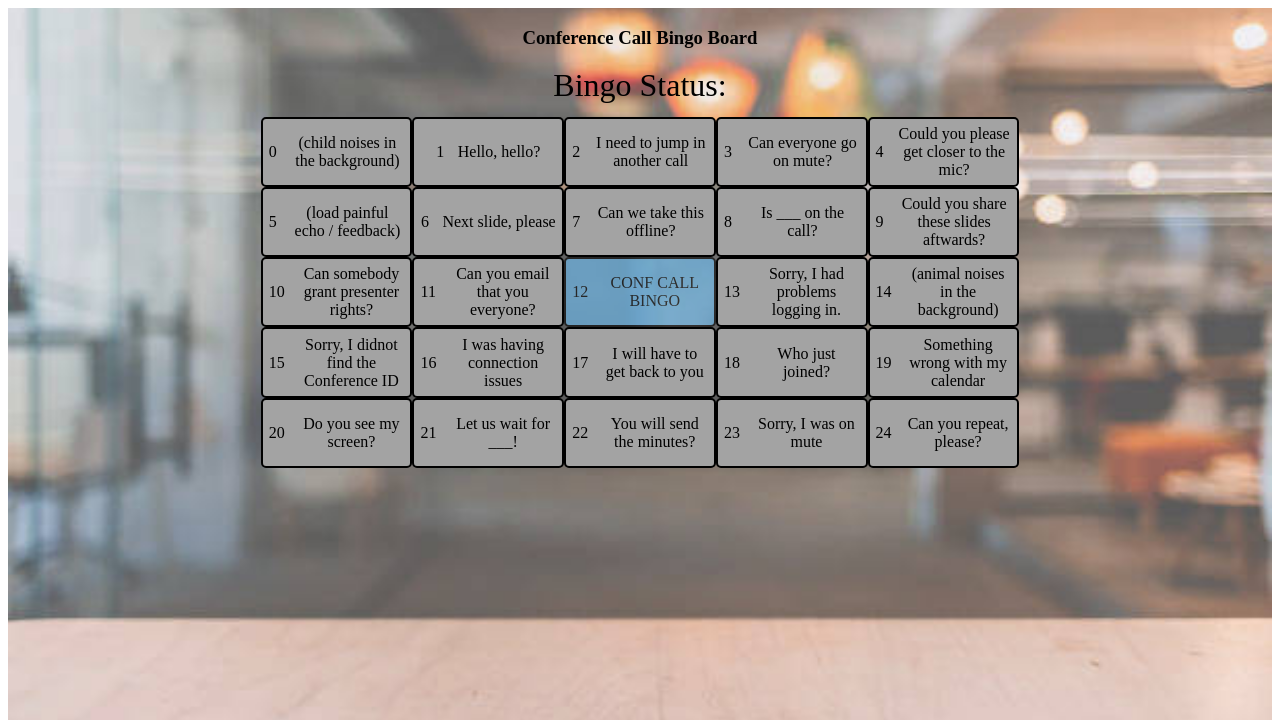
Test: Bingo Board › should have a bingo row and display B
The image size is (1280, 720).
Click the element showing "1 Hello, hello?" at (489, 152), box [413,117,565,187]
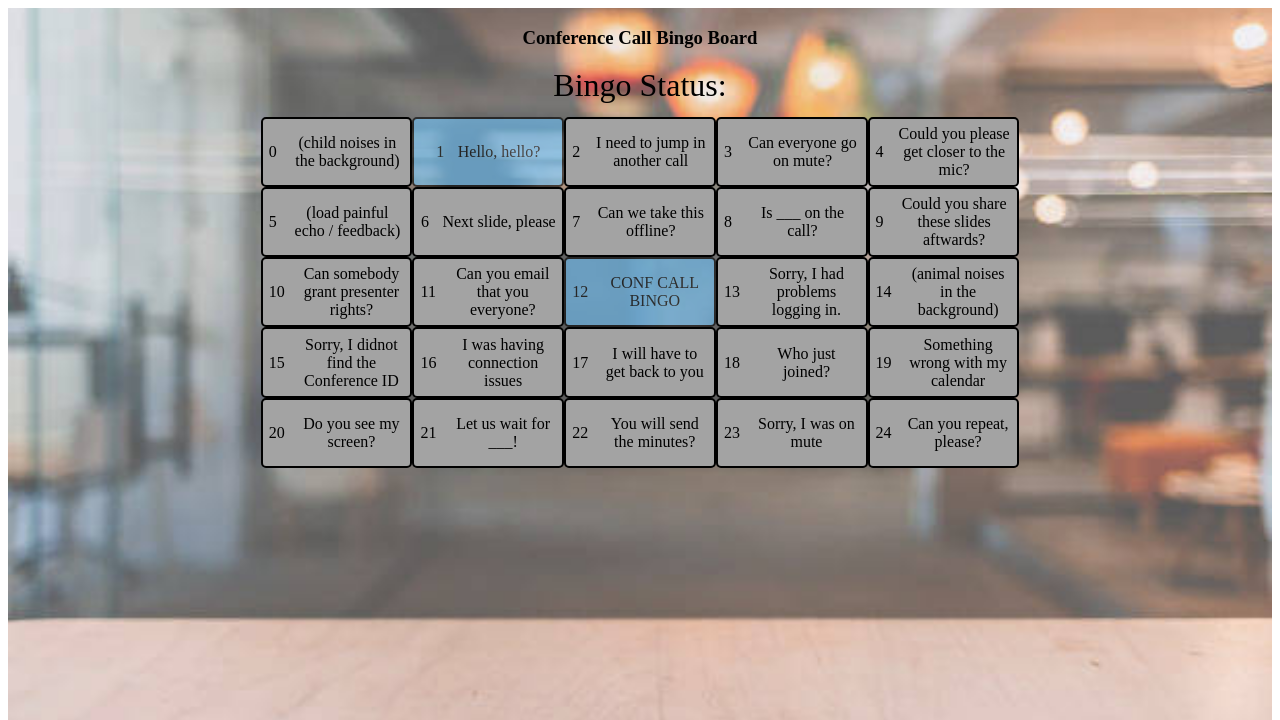
Click the element showing "6 Next slide, please" at (489, 222), box [413,187,565,257]
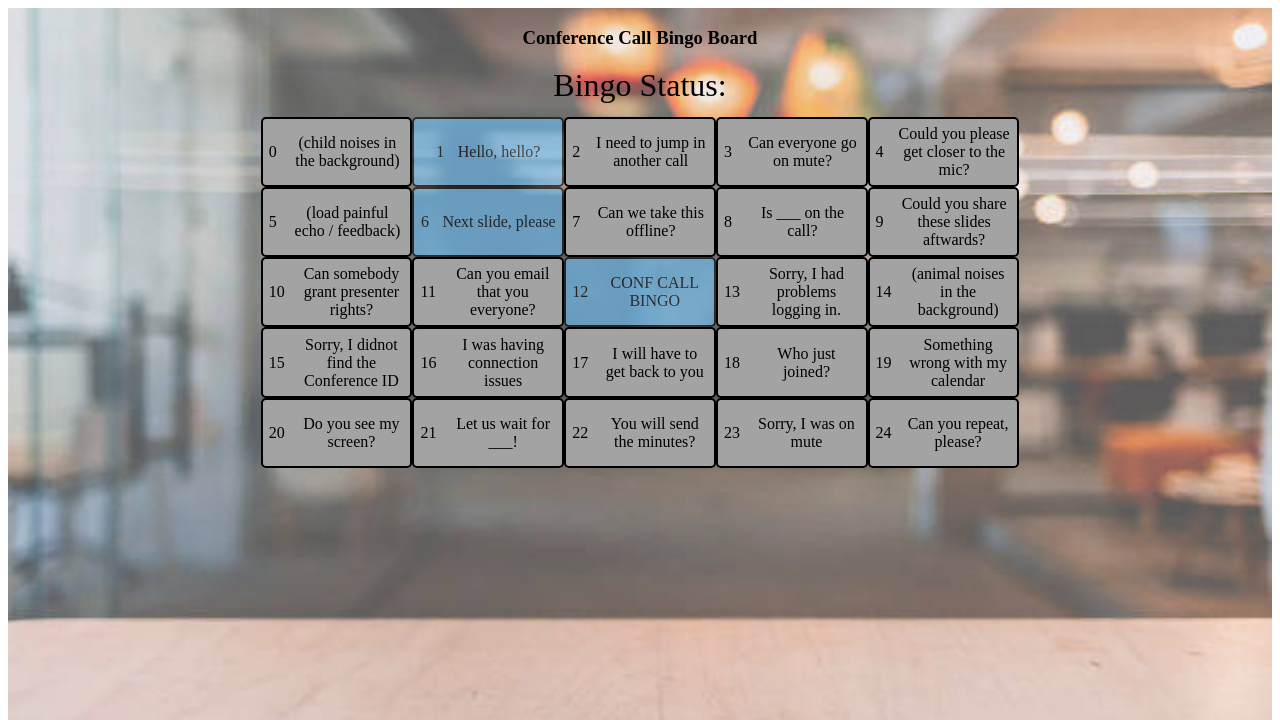
Click the element showing "11 Can you email that you everyone?" at (489, 292), box [413,257,565,327]
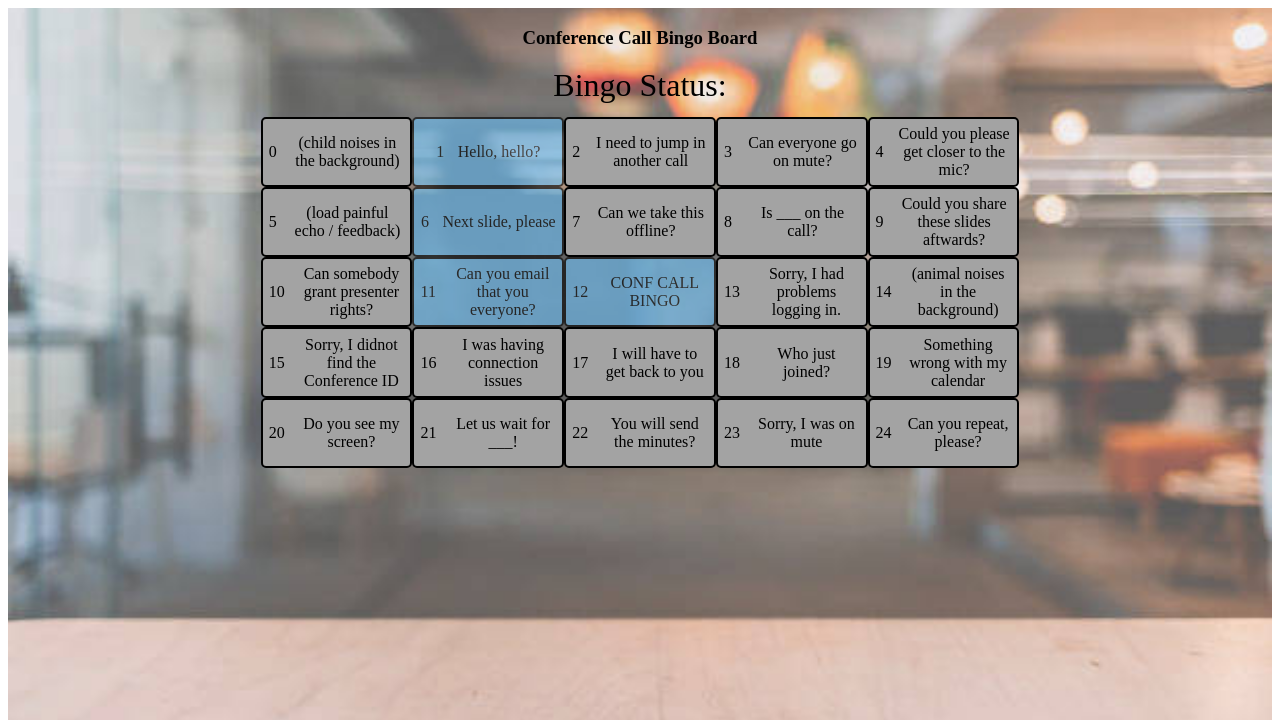
Click the element showing "16 I was having connection issues" at (489, 362), box [413,327,565,397]
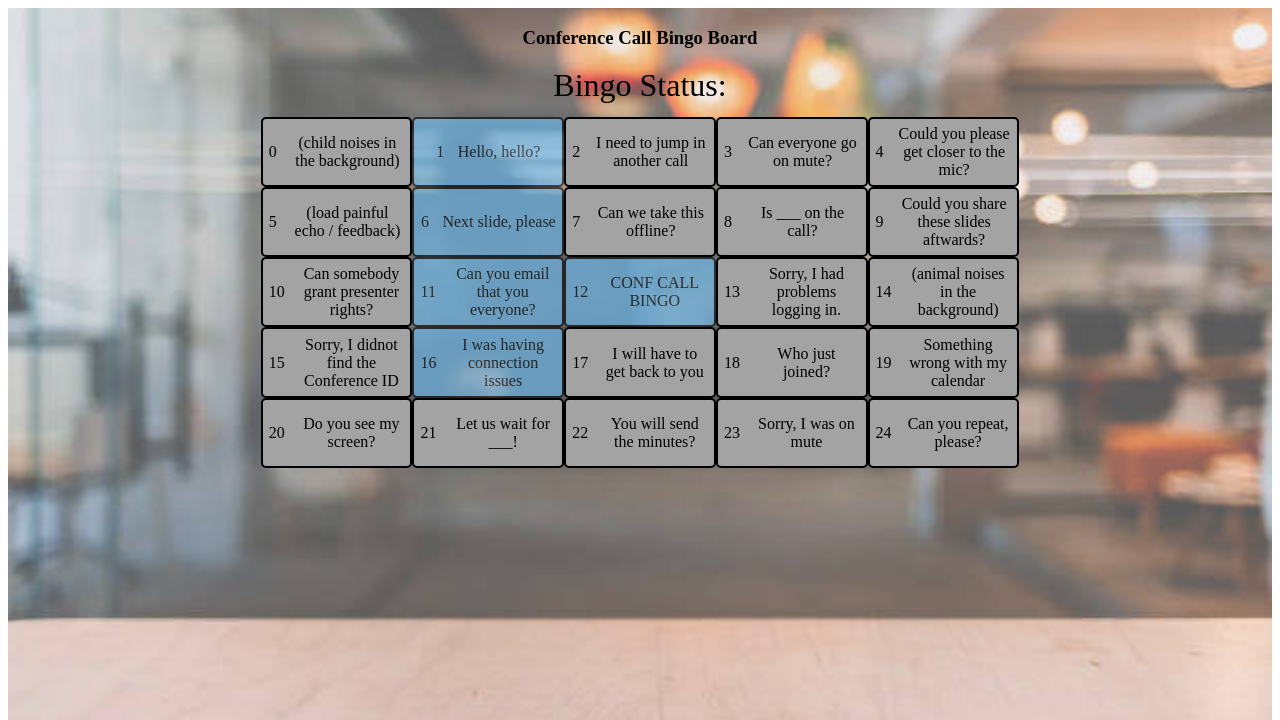
Click the element showing "21 Let us wait for ___!" at (489, 433), box [413,398,565,468]
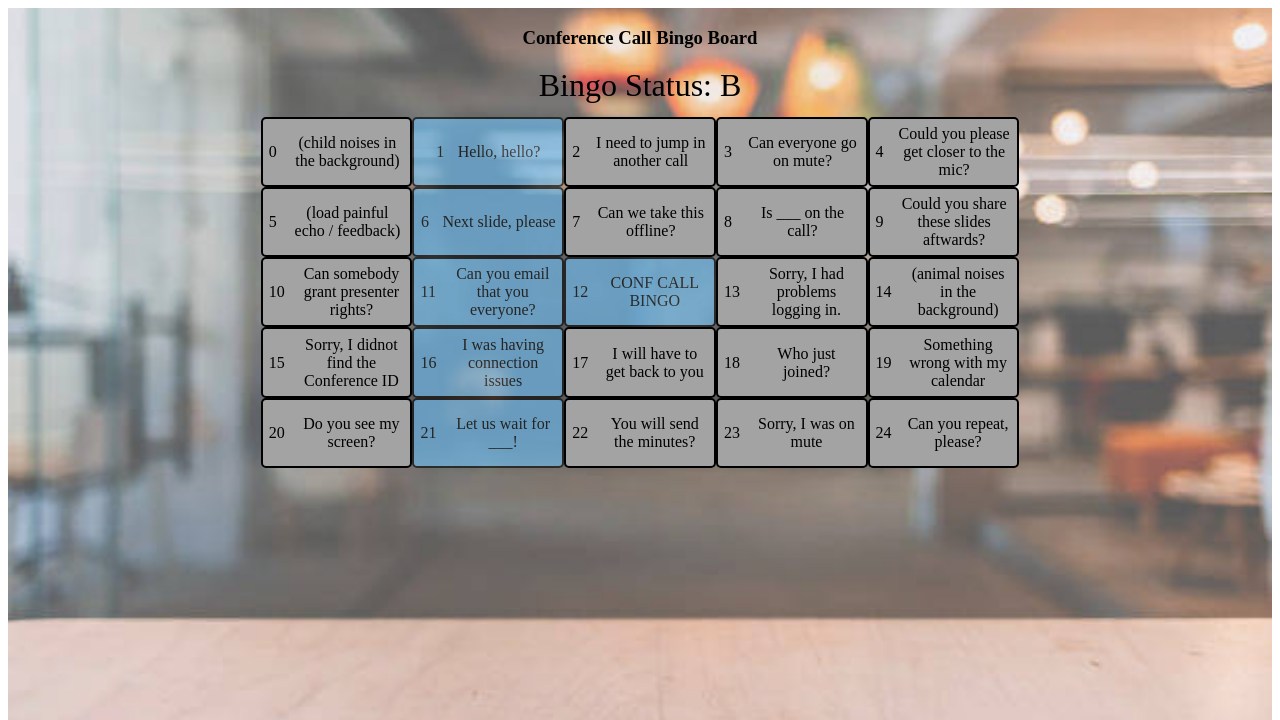
Check: the text with class "bingoBoxDiv" reads "Bingo Status: B", box [539,67,742,103]
